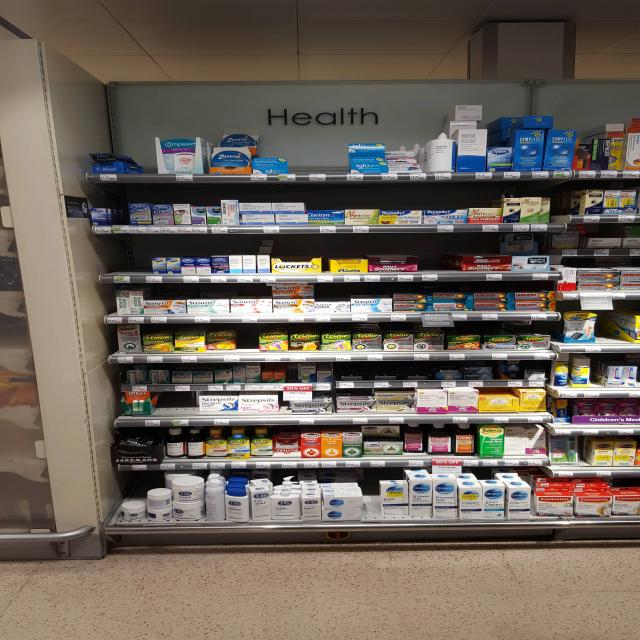empty: (286, 134, 352, 176), (412, 234, 463, 282), (590, 294, 628, 352), (100, 238, 153, 275), (362, 471, 383, 515)
